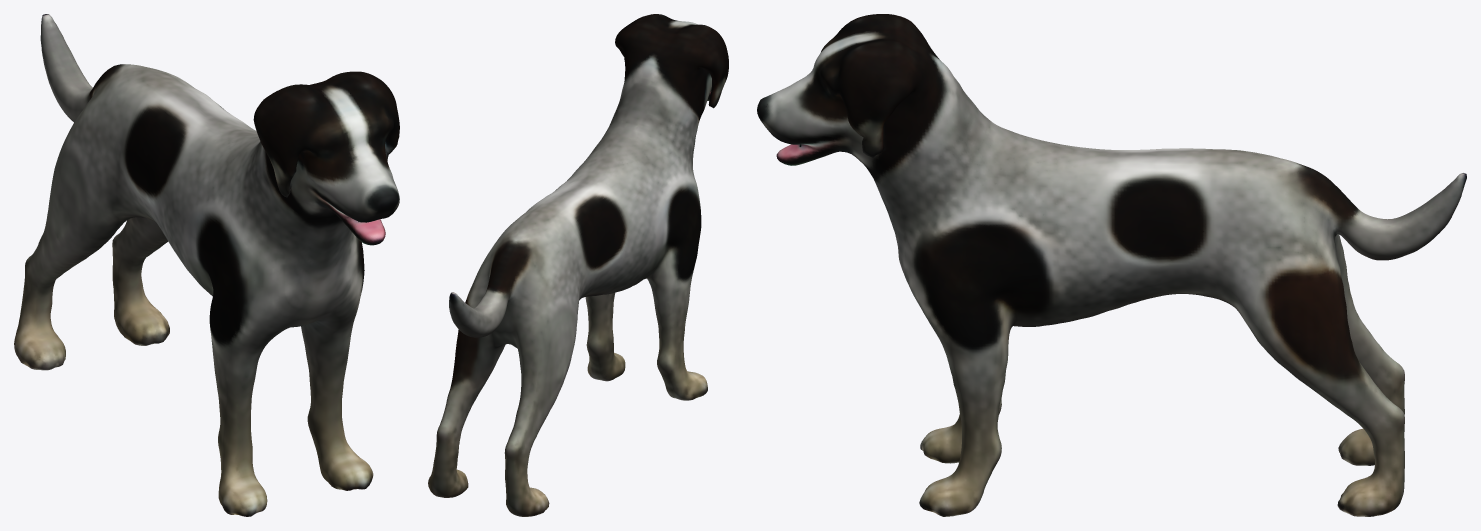
The model's file is asset.glb.
The picture shows the model from 3 angles, left to right: view 1: azimuth 30°, elevation 25°; view 2: azimuth 150°, elevation 25°; view 3: azimuth 270°, elevation 25°; orthographic projection. The views are drawn at different scales.
Size of the model in its own units: 0.2262 by 0.6493 by 0.9174.
Materials: 1 (1 with a texture image).
